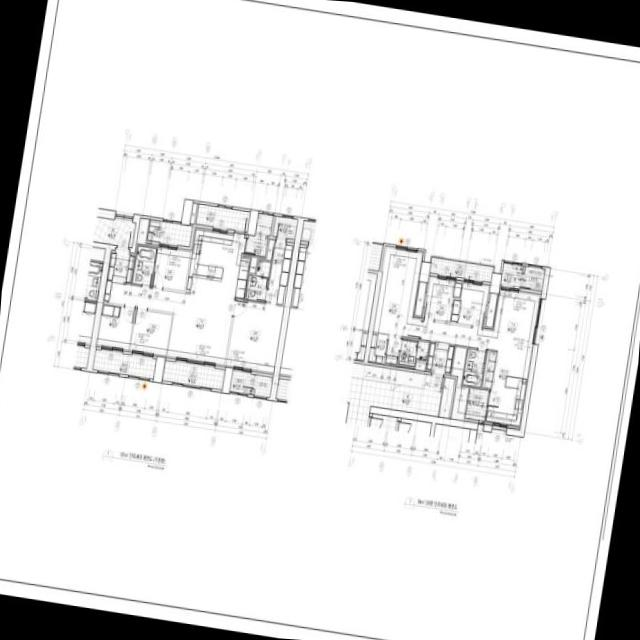background: (0, 0, 640, 640)
space_balconi: (92, 349, 156, 378), (161, 360, 224, 389), (195, 204, 249, 231), (147, 219, 192, 246), (229, 371, 255, 394)
space_bedroom: (372, 247, 422, 338), (225, 299, 283, 372), (129, 308, 171, 355), (449, 281, 488, 326), (96, 303, 134, 349), (151, 246, 190, 290), (423, 276, 455, 321)
space_dressroom: (265, 236, 293, 305), (368, 332, 400, 365)
space_elevator_hall: (346, 374, 443, 416), (92, 216, 135, 247)
space_front: (106, 247, 134, 284), (425, 341, 453, 373)
space_kitchen: (185, 229, 249, 300), (481, 348, 529, 425)
space_living_room: (103, 280, 233, 364), (420, 289, 539, 355)
space_multipurpose_space: (245, 213, 272, 256), (465, 387, 488, 420), (500, 262, 522, 286)
space_other: (350, 362, 425, 388), (429, 257, 492, 282), (450, 346, 468, 419), (438, 377, 454, 418), (272, 216, 297, 239), (414, 281, 426, 316), (485, 293, 497, 326), (136, 217, 148, 242), (266, 240, 274, 260), (189, 203, 196, 223), (249, 257, 257, 273), (415, 360, 425, 369)
space_outdoor_room: (522, 266, 544, 290), (253, 374, 272, 397)
space_toilet: (245, 260, 270, 301), (132, 245, 155, 285), (462, 348, 485, 387), (398, 338, 428, 366)
